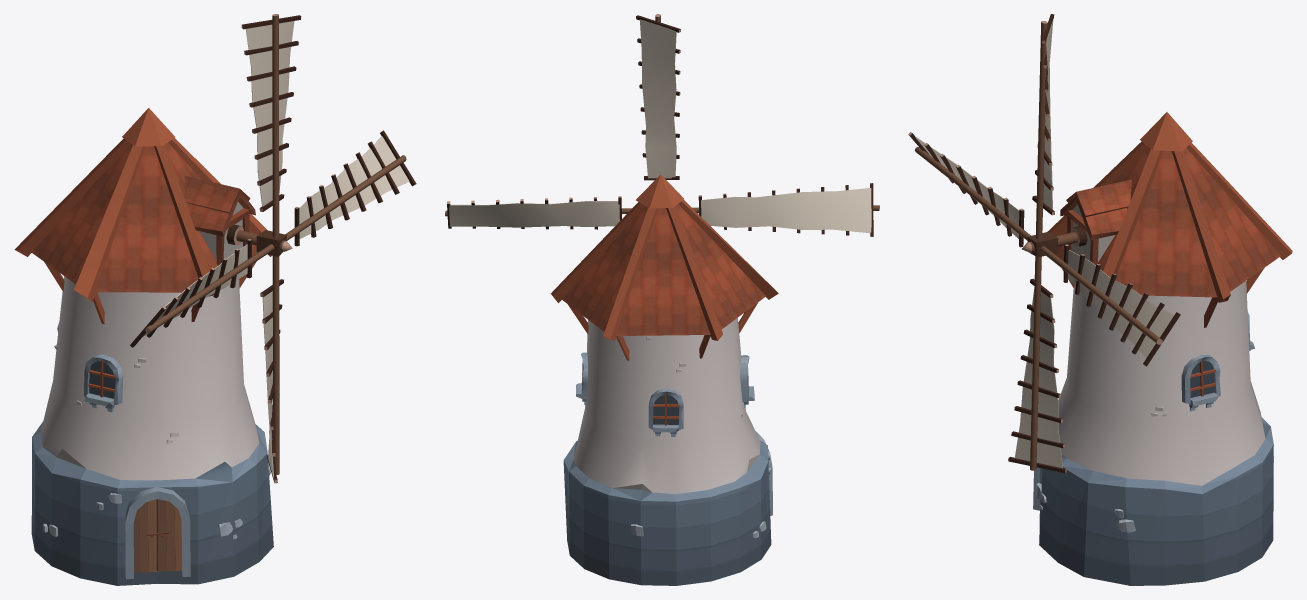
File: mill-wind.glb
3 views of the same model, side by side, from view 1: azimuth 30°, elevation 25°; view 2: azimuth 150°, elevation 25°; view 3: azimuth 270°, elevation 25° (orthographic). The views are drawn at different scales.
Visible parts, largest first — view 1: Mill-wind_Texture-base_0, Mill-wind_Texture-base-gloss-jpg_0; view 2: Mill-wind_Texture-base_0, Mill-wind_Texture-base-gloss-jpg_0; view 3: Mill-wind_Texture-base_0, Mill-wind_Texture-base-gloss-jpg_0.
Boxes of the visible parts, box(x1,y1,x2,y2) form: Mill-wind_Texture-base_0: box(14, 14, 416, 585); Mill-wind_Texture-base-gloss-jpg_0: box(89, 361, 169, 536); Mill-wind_Texture-base_0: box(445, 14, 879, 585); Mill-wind_Texture-base-gloss-jpg_0: box(653, 394, 678, 424); Mill-wind_Texture-base_0: box(908, 14, 1292, 585); Mill-wind_Texture-base-gloss-jpg_0: box(1190, 360, 1214, 397).
Size of the model in its own units: 11.28 by 15.33 by 9.75.
Materials: 2 (2 with a texture image).
